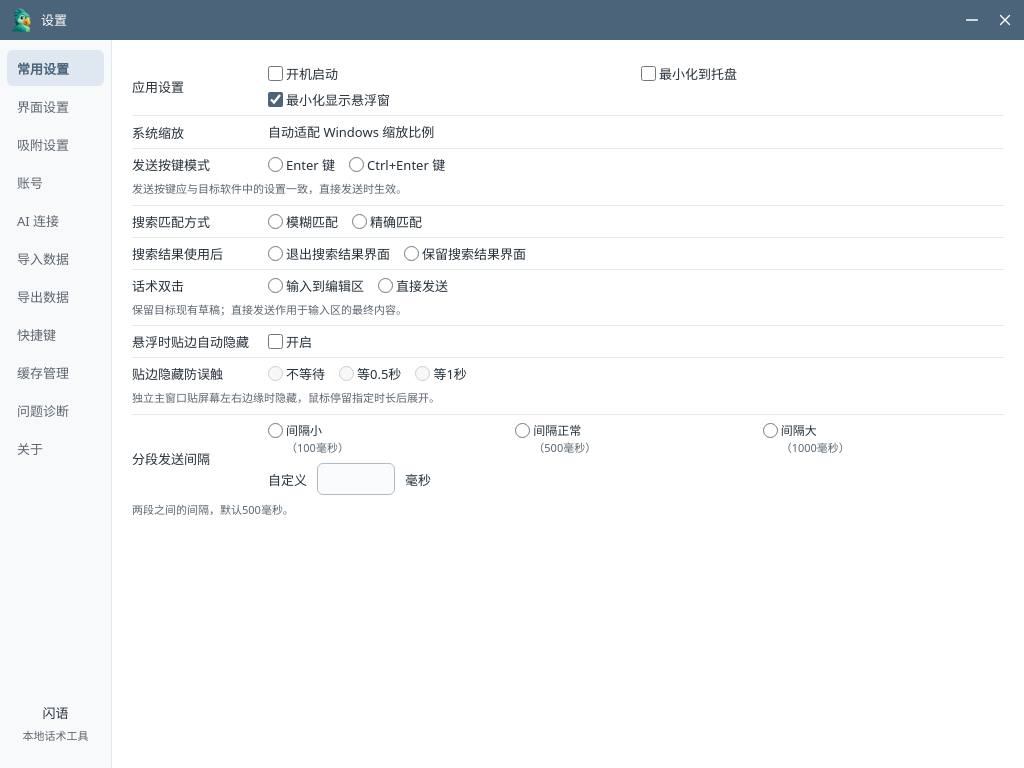
Test: 最小化悬浮窗设置 › 保存失败保留原值
This screenshot has width=1024, height=768.
Click the checkbox labelled "最小化显示悬浮窗".
click(276, 100)  # box [268,92,283,107]
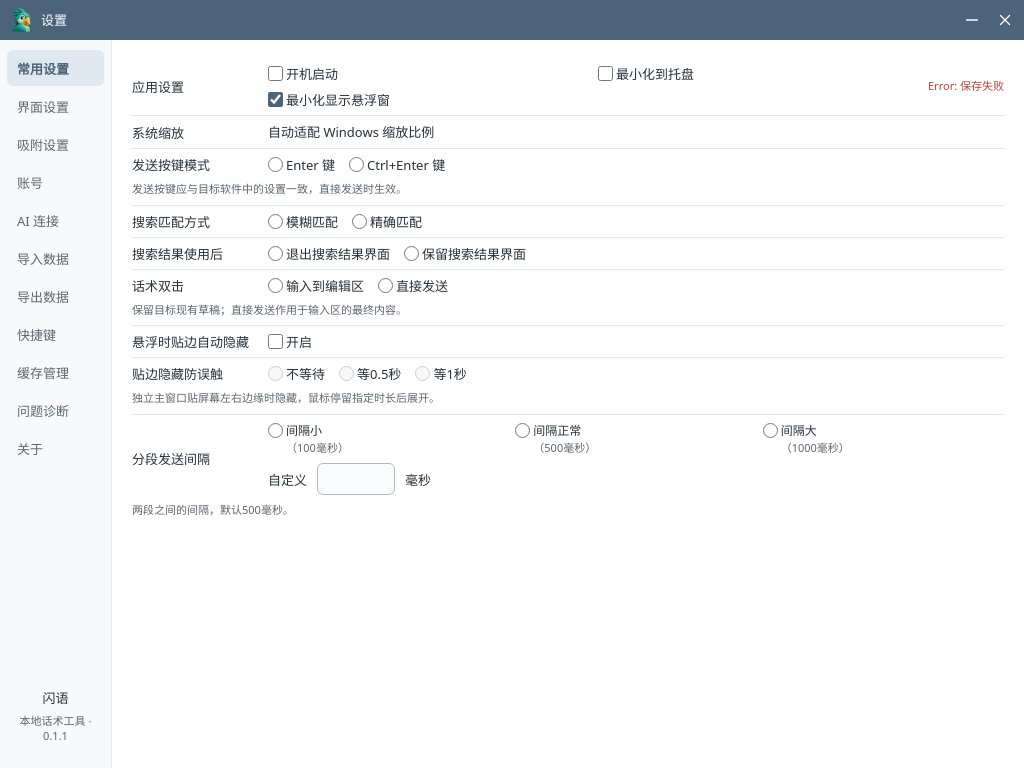
Now the text "Error: 保存失败" is shown, box [928,76,1004,92]
